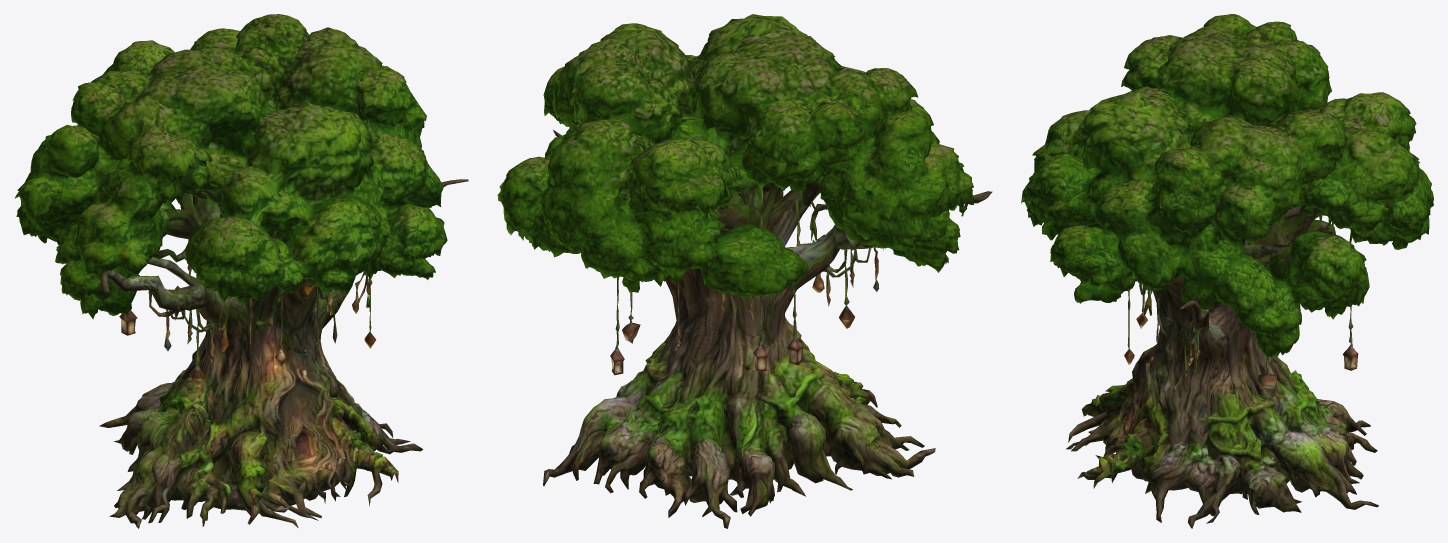
Rendered from The_Lanterned_Heart_T.glb.
3 views of the same model, side by side, from view 1: azimuth 30°, elevation 25°; view 2: azimuth 150°, elevation 25°; view 3: azimuth 270°, elevation 25° (orthographic). The views are drawn at different scales.
Parts seen in each view (by area): view 1: The_Lanterned_Heart_T; view 2: The_Lanterned_Heart_T; view 3: The_Lanterned_Heart_T.
Boxes of the visible parts, x1,y1,x2,y2 form: The_Lanterned_Heart_T: (14,14,468,528); The_Lanterned_Heart_T: (497,14,992,528); The_Lanterned_Heart_T: (1021,14,1433,528).
Size of the model in its own units: 1.89 by 1.78 by 1.69.
Materials: 1 (1 with a texture image).
